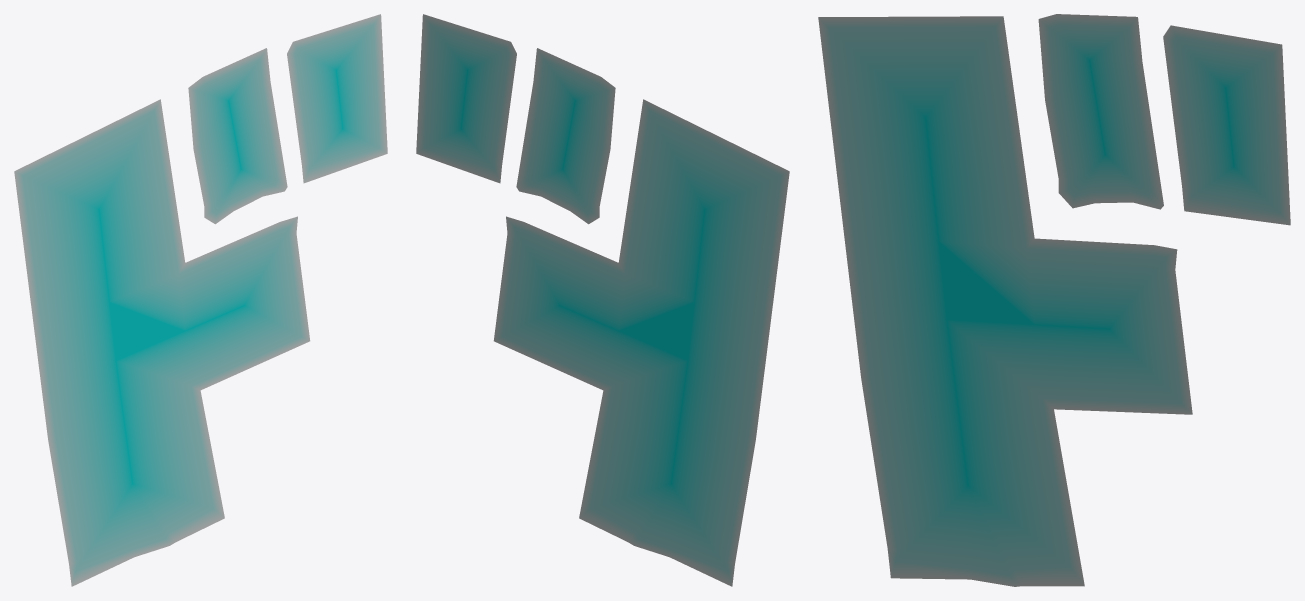
The model's file is SM_EFF_Text_TandemPaperBomb_02.glb.
3 views of the same model, side by side, from view 1: azimuth 30°, elevation 25°; view 2: azimuth 150°, elevation 25°; view 3: azimuth 330°, elevation 25° (orthographic). The views are drawn at different scales.
Parts seen in each view (by area): view 1: SM_EFF_Text_TandemPaperBomb_02; view 2: SM_EFF_Text_TandemPaperBomb_02; view 3: SM_EFF_Text_TandemPaperBomb_02.
Boxes of the visible parts, x1,y1,x2,y2 form: SM_EFF_Text_TandemPaperBomb_02: (14, 14, 387, 586); SM_EFF_Text_TandemPaperBomb_02: (416, 14, 789, 586); SM_EFF_Text_TandemPaperBomb_02: (818, 14, 1290, 586).
Bounding box in the file's own units: 0.4841 × 0.616 × 3.77e-17.
